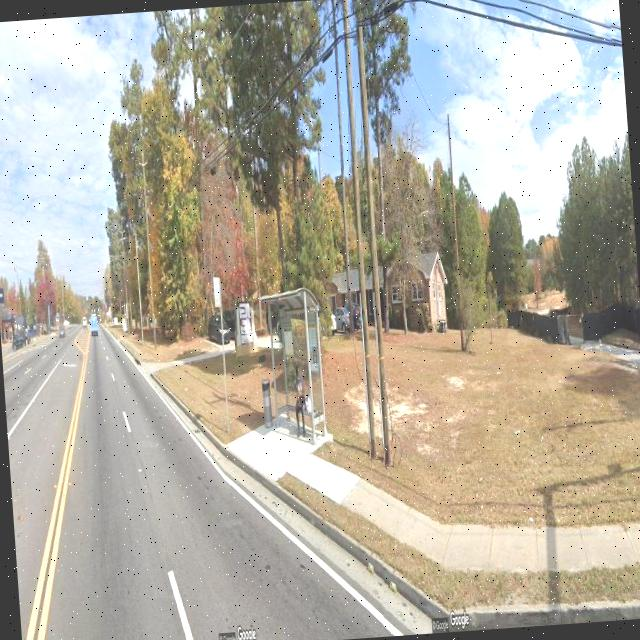seating: (296, 403, 320, 438)
shelter: (258, 286, 329, 448)
trash_can: (260, 376, 273, 428)
